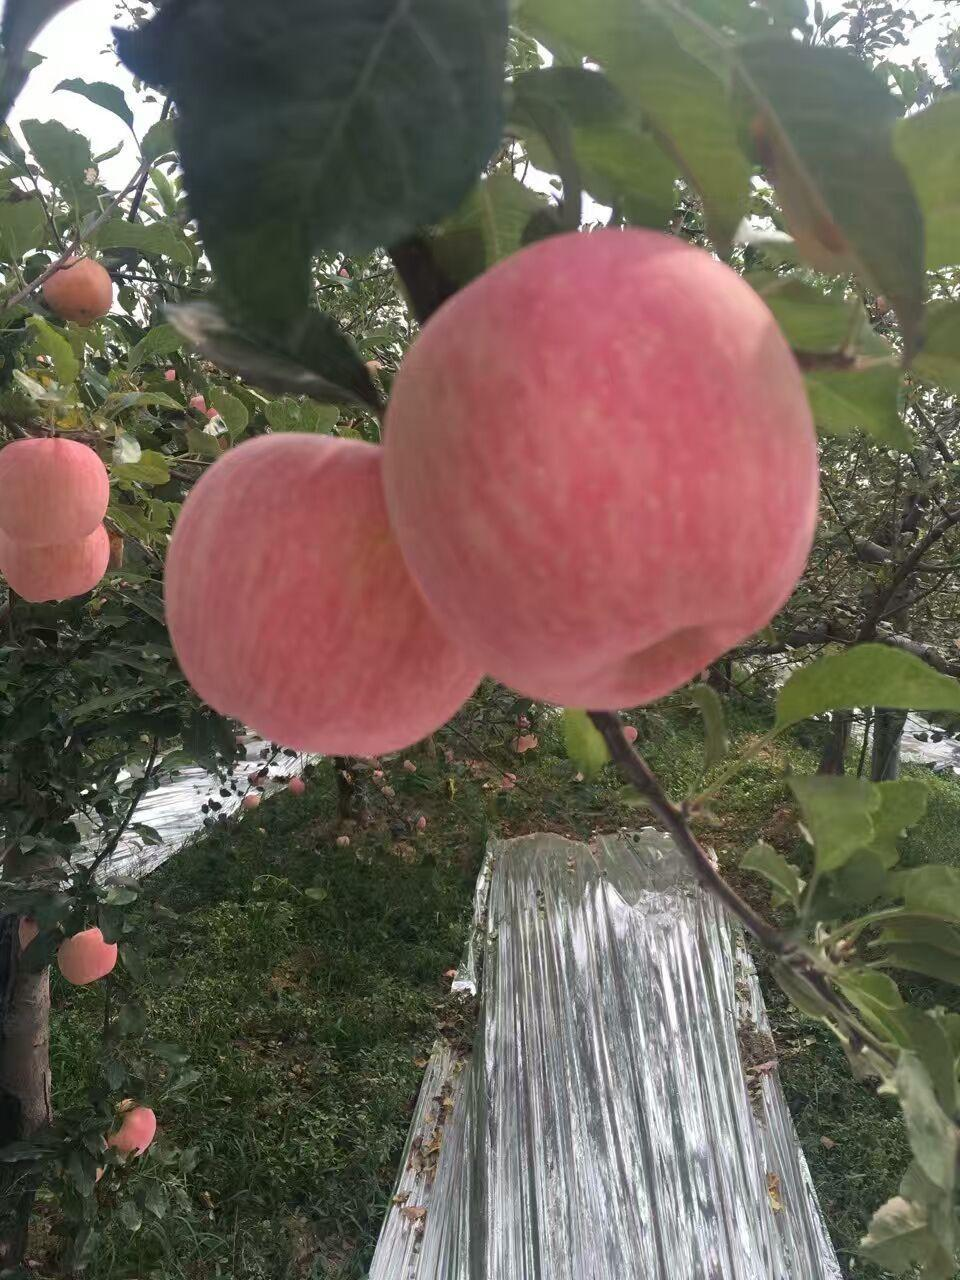apple: (377, 225, 823, 717), (163, 429, 487, 756), (36, 249, 113, 323), (108, 1104, 156, 1157)
